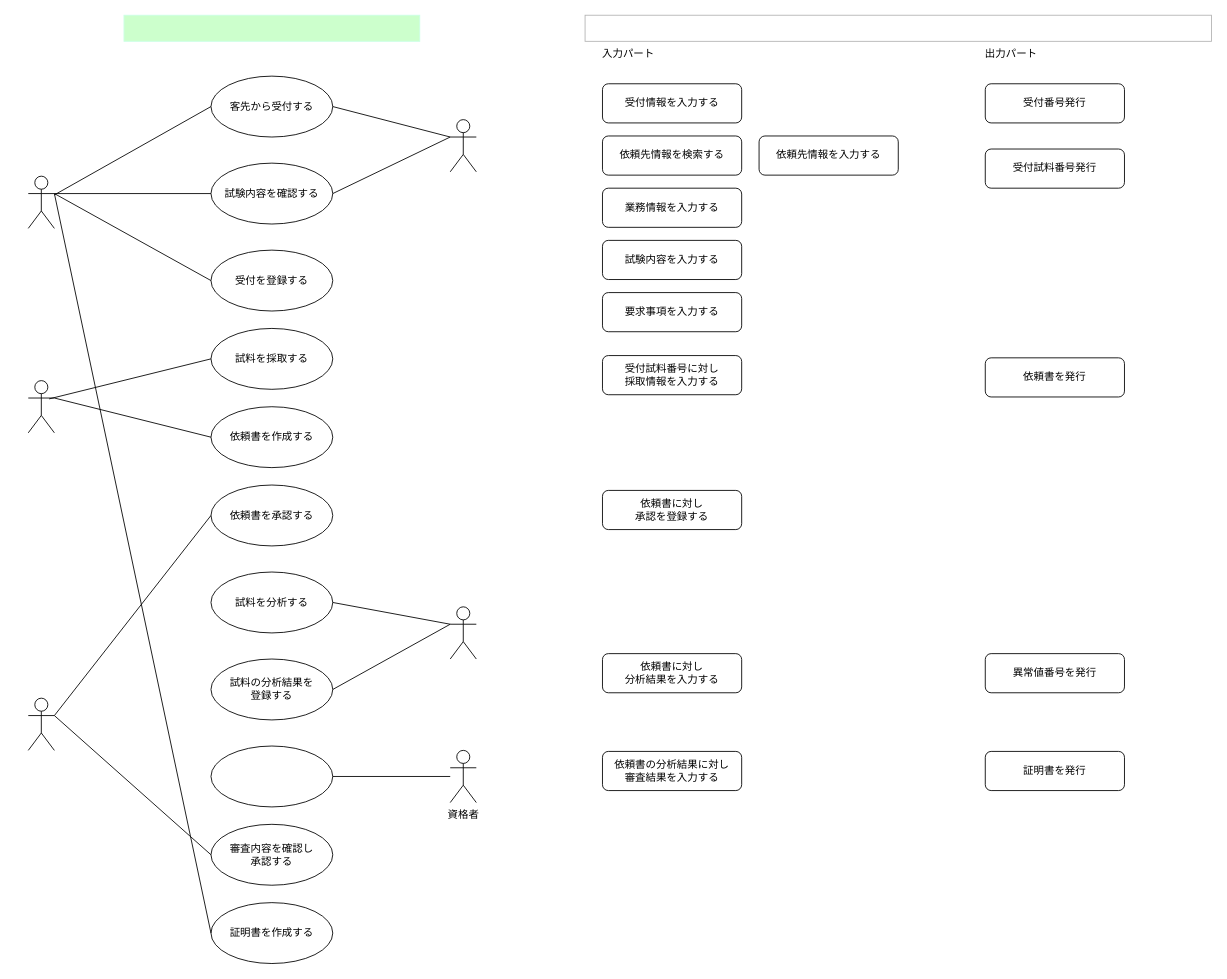
Some shapes in this 1227 by 979 pixel diagram are drawn without their labels. The centre of each missing label's shape, as x and y in pixels:
"ユースケース" belongs at pixel 271 27.
"受付" belongs at pixel 40 201.
"客先" belongs at pixel 462 145.
"承認者" belongs at pixel 40 723.
"操作（機能）" belongs at pixel 897 27.
"現場担当者" belongs at pixel 40 406.
"試料の分析結果を 審査する" belongs at pixel 271 776.
"試験者" belongs at pixel 462 632.
